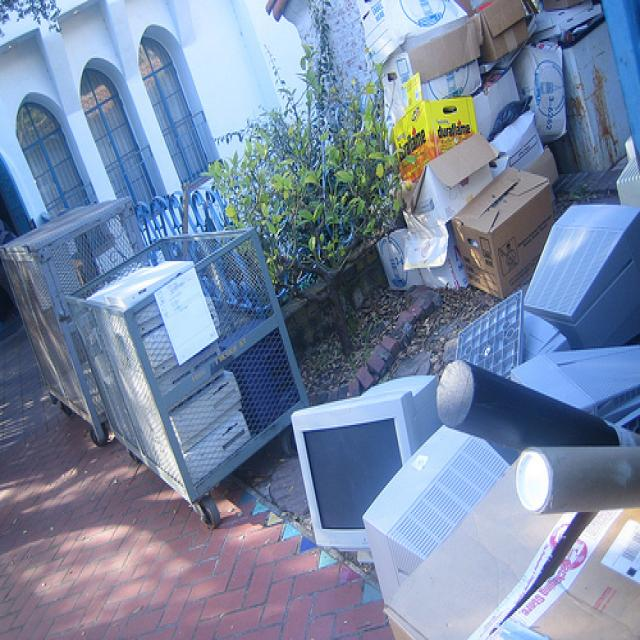tvmonitor: (288, 372, 444, 570), (358, 421, 513, 614), (522, 199, 640, 351), (499, 344, 640, 436)
